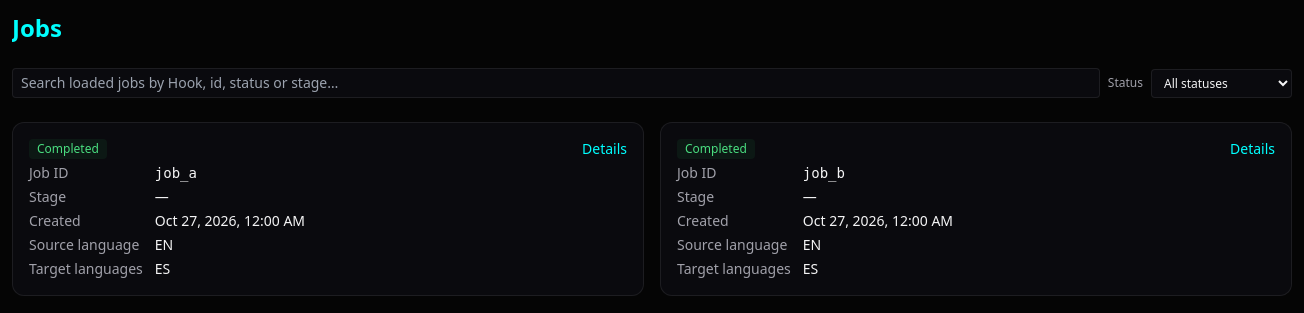
it: JobsPage › matches the keyword against the Hooks of each job's Clips
expect the text "job_a" is shown: met, box [155,165,197,181]
Type "saas ads" into the search field labelled "Search" at (556, 83), box [12,68,1100,98]
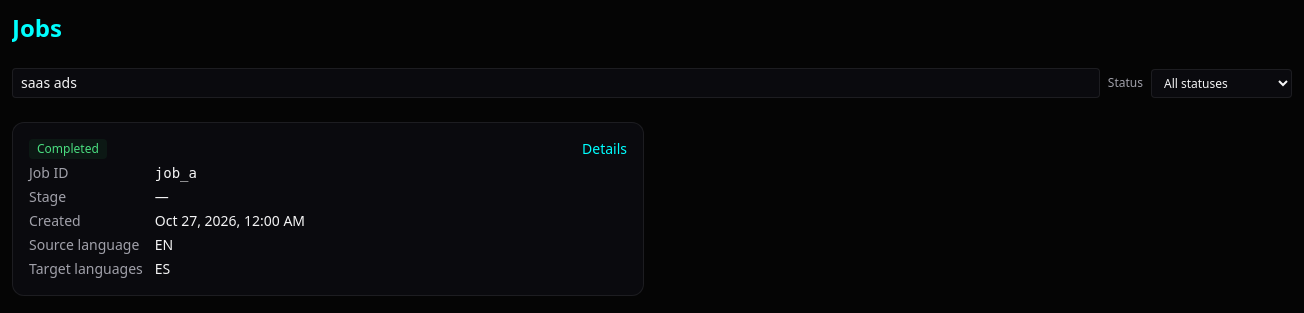
expect the text "job_a" is shown: met, box [155,165,197,181]
expect the text "job_b" is gone: met
